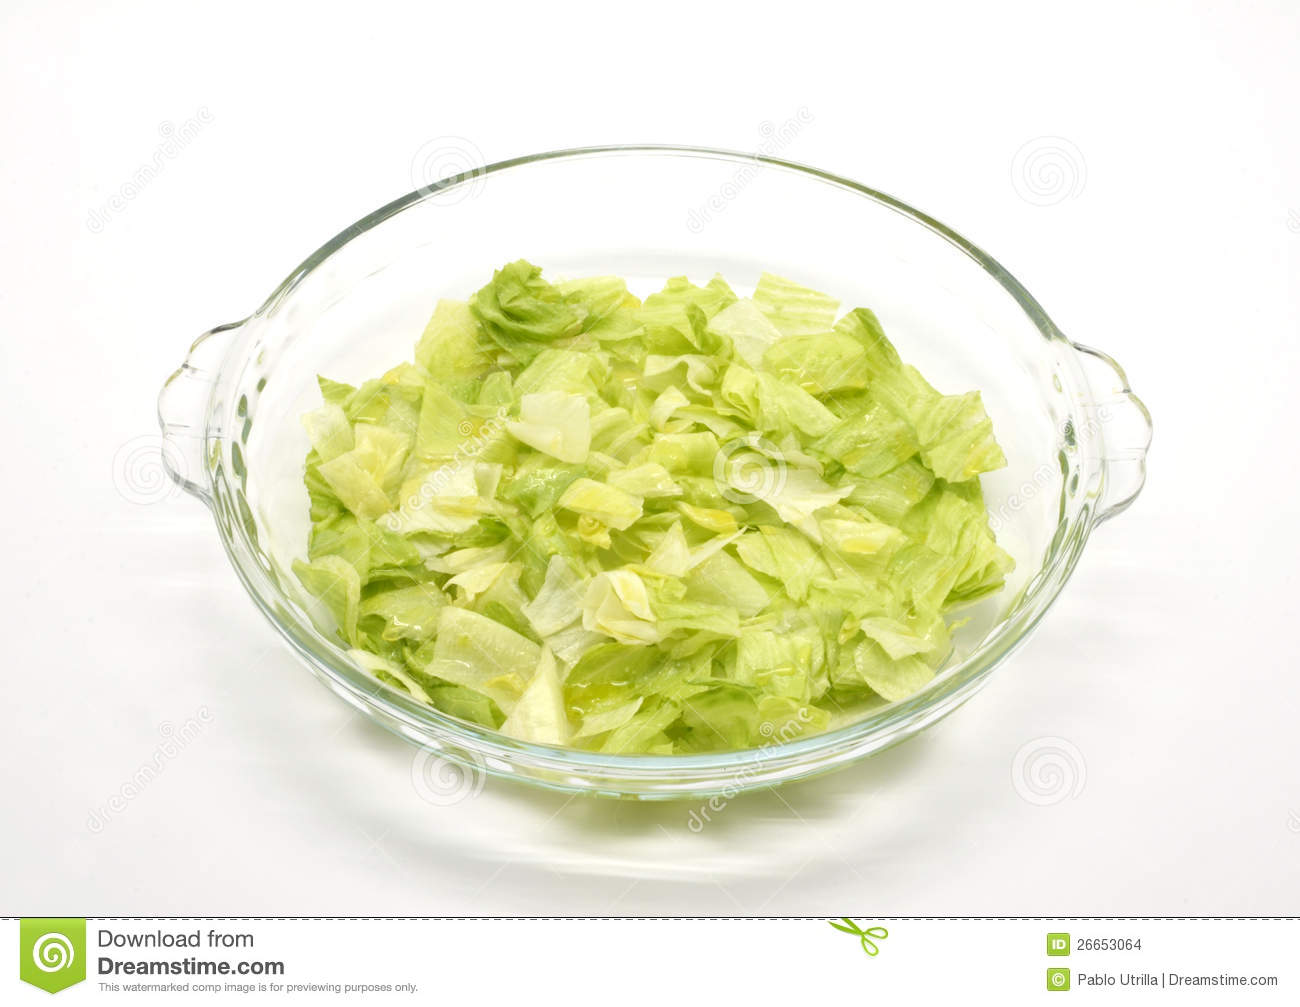chopped lettuce: (317, 294, 937, 710)
